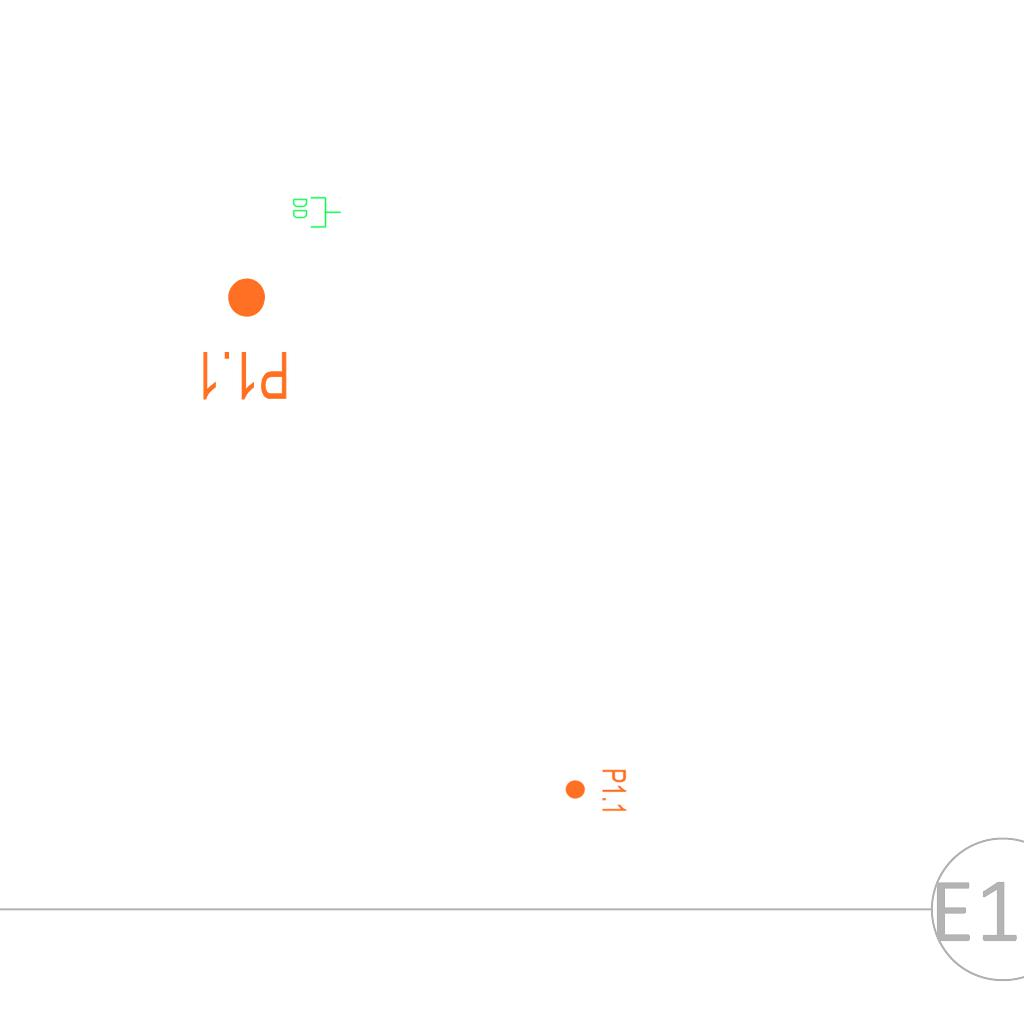Datenanschluss_zweifach: (291, 195, 342, 229)
Downlight_LED_Einbauleuchten_Flur_2: (197, 275, 290, 403), (564, 768, 628, 814)
